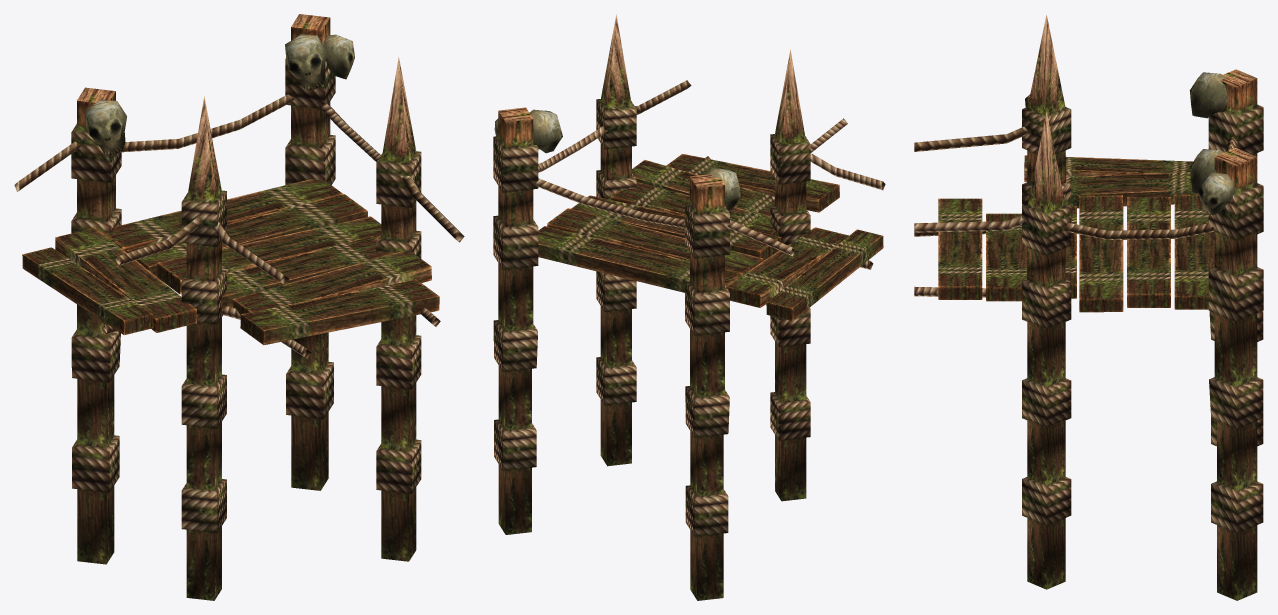
The model's file is StoneRoad06.FBX.
3 views of the same model, side by side, from view 1: azimuth 30°, elevation 25°; view 2: azimuth 150°, elevation 25°; view 3: azimuth 270°, elevation 25° (orthographic). The views are drawn at different scales.
Visible parts, largest first — view 1: StoneRoad06; view 2: StoneRoad06; view 3: StoneRoad06.
Boxes of the visible parts, left/top/right/bottom form: StoneRoad06: left=14, top=14, right=464, bottom=600; StoneRoad06: left=493, top=14, right=885, bottom=600; StoneRoad06: left=914, top=15, right=1263, bottom=600.
Size of the model in its own units: 434 by 659 by 414.
